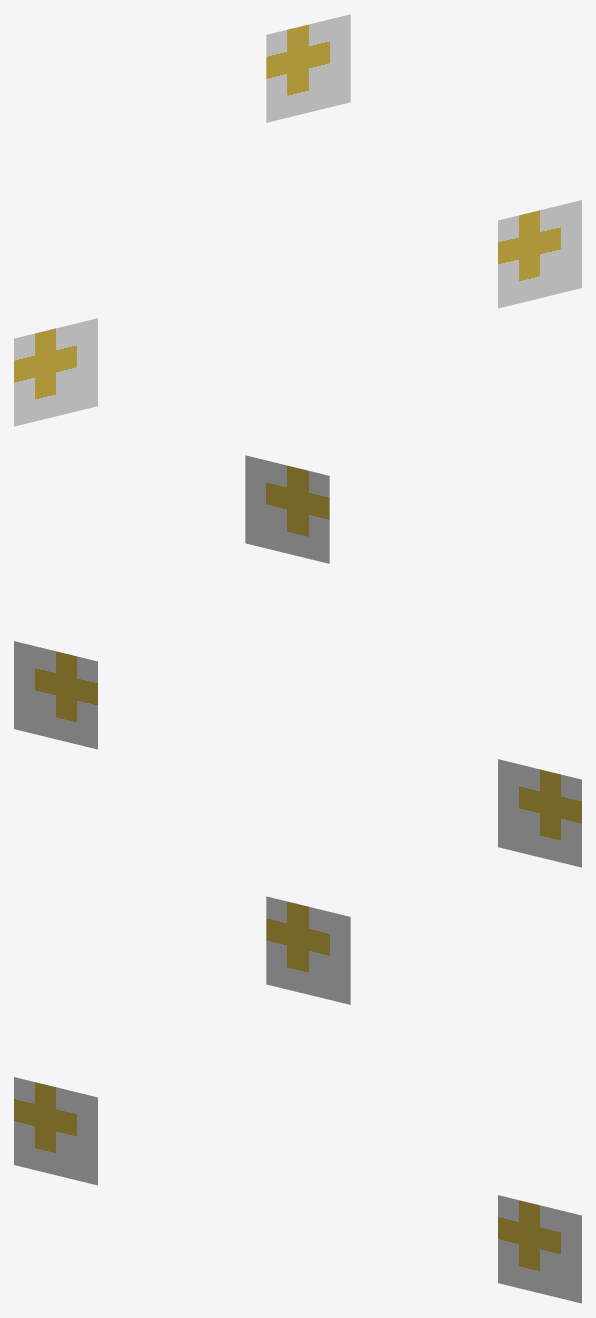
File: Knockout.glb
3 views of the same model, one above another, from view 1: azimuth 30°, elevation 25°; view 2: azimuth 150°, elevation 25°; view 3: azimuth 330°, elevation 25° (orthographic).
Visible parts, largest first — view 1: Star1, Star2, Star3; view 2: Star1, Star2, Star3; view 3: Star1, Star3, Star2.
Part boxes in pixels (x1,y1,x2,y2): Star1: (266,14,350,122); Star2: (14,318,97,426); Star3: (498,200,581,308); Star1: (245,455,329,563); Star2: (498,759,581,867); Star3: (14,641,97,749); Star1: (266,896,350,1004); Star3: (498,1195,581,1303); Star2: (14,1077,97,1185).
Bounding box in the file's own units: 0.00844 × 0.00469 × 2.78e-19.
1 material, 1 textured.
